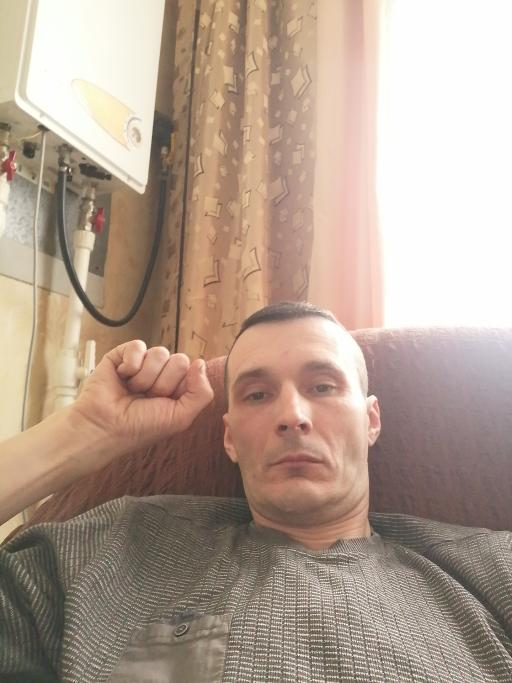fist: (73, 333, 216, 449)
